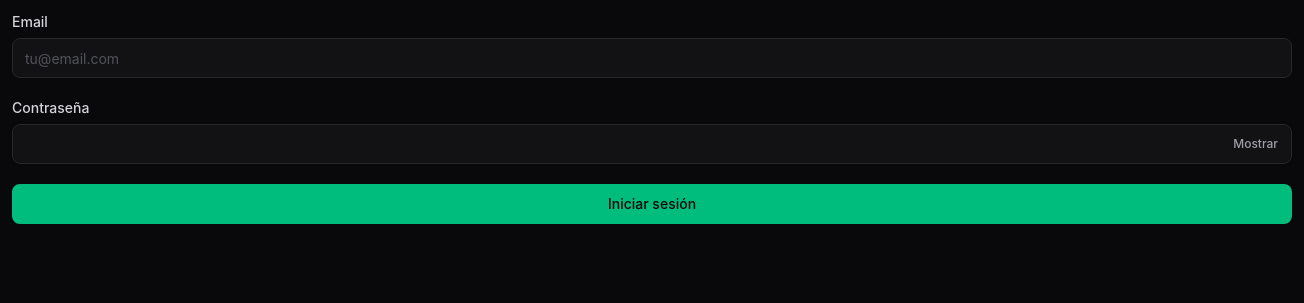
Test: LoginForm › indica cuánto esperar tras demasiados intentos
Type "ana@example.com" into the field labelled "Email". click: x=652, y=58
box: [12,38,1292,78]
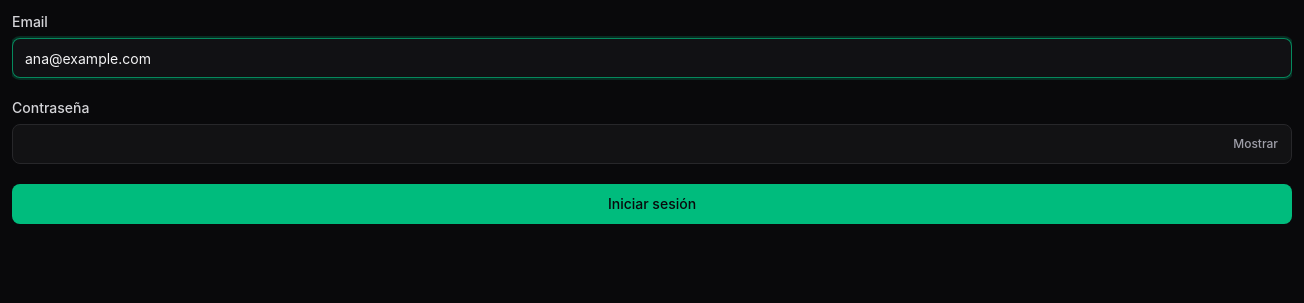
Type "incorrecta" into the password field labelled "Contraseña". click: x=652, y=144
box: [12,124,1292,164]
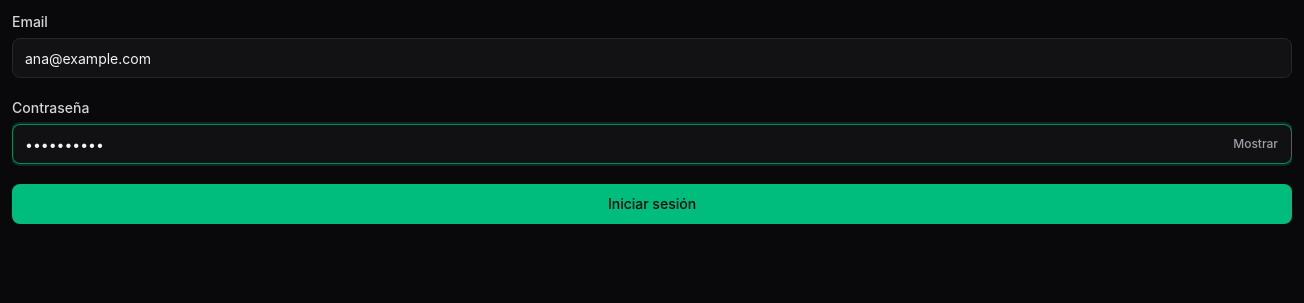
Click the button "Iniciar sesión". click: x=652, y=204
box: [12,184,1292,224]
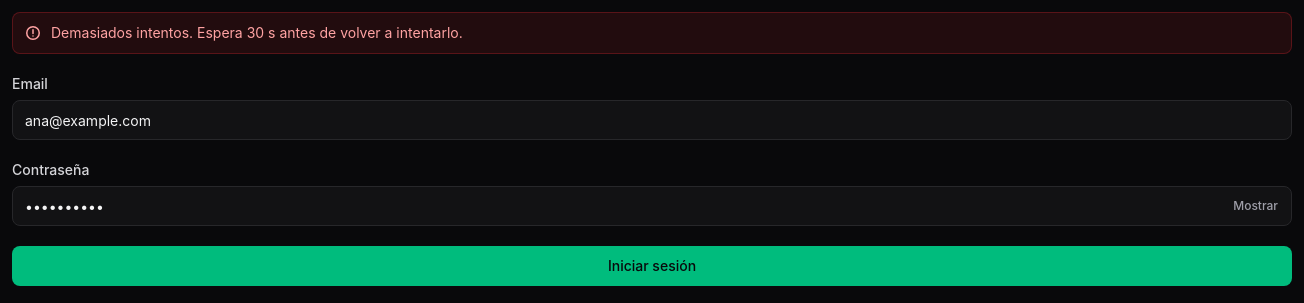
Result: the message shows "Espera 30 s" at [51,24,463,41]
